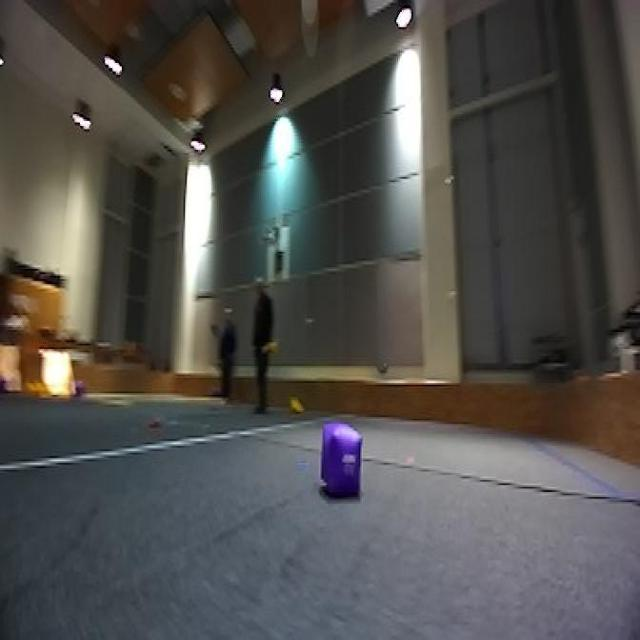frc_cone: (26, 380, 50, 398), (288, 389, 304, 414), (261, 337, 279, 357)
frc_cube: (319, 422, 364, 499), (72, 380, 87, 400)
